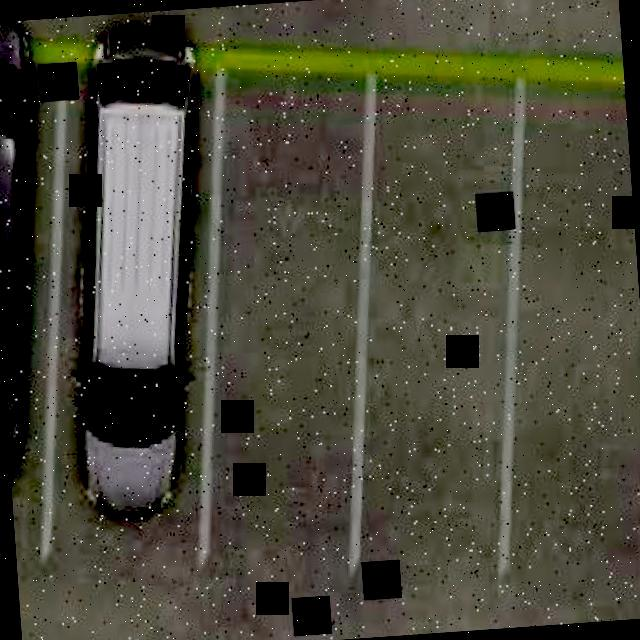car: (34, 8, 238, 530), (0, 19, 70, 507)
free: (171, 62, 402, 583), (324, 68, 548, 582), (474, 71, 640, 595)
